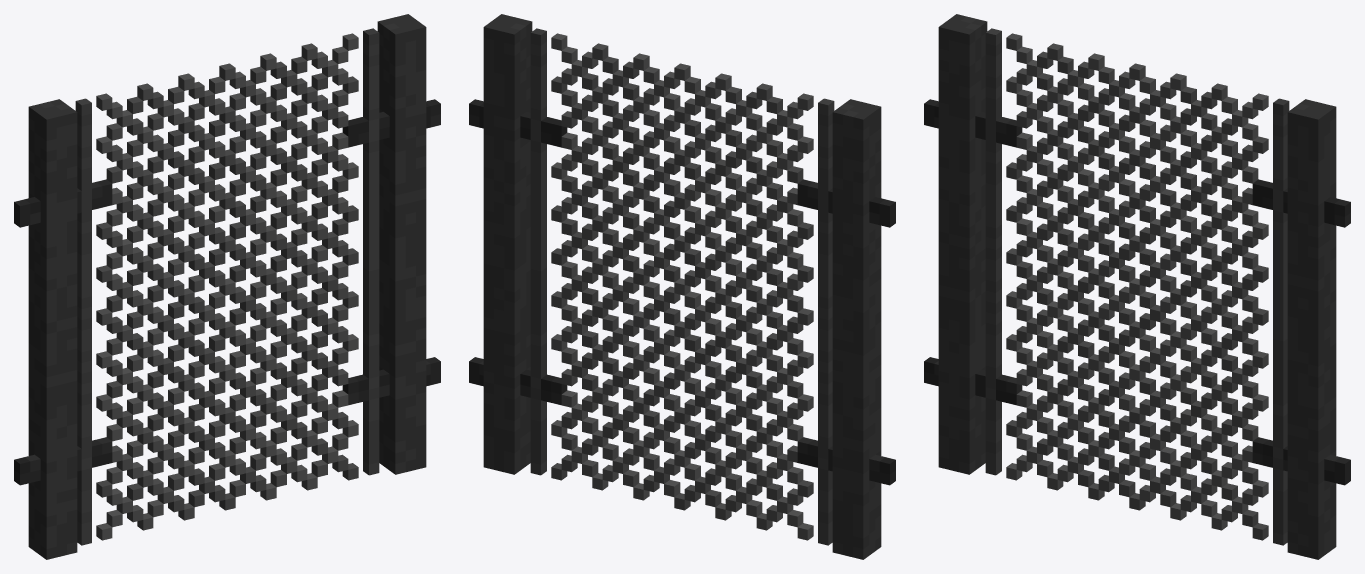
Rendered from Valla.obj.
3 renders of one model, left to right at view 1: azimuth 30°, elevation 25°; view 2: azimuth 150°, elevation 25°; view 3: azimuth 330°, elevation 25°, orthographic.
Size of the model in its own units: 4.1 by 4.1 by 0.3.
1 material, 1 textured.
